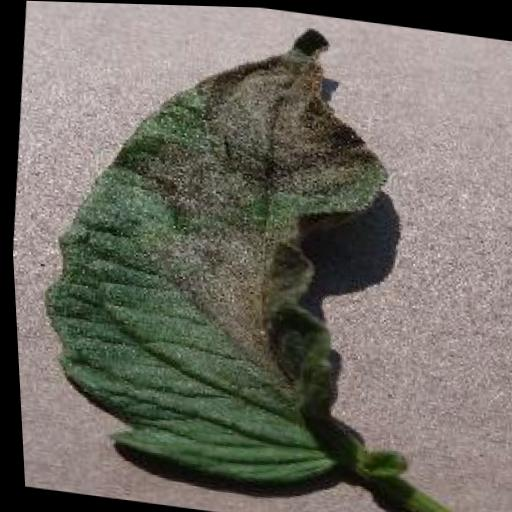Late Blight: (10, 0, 417, 494)
